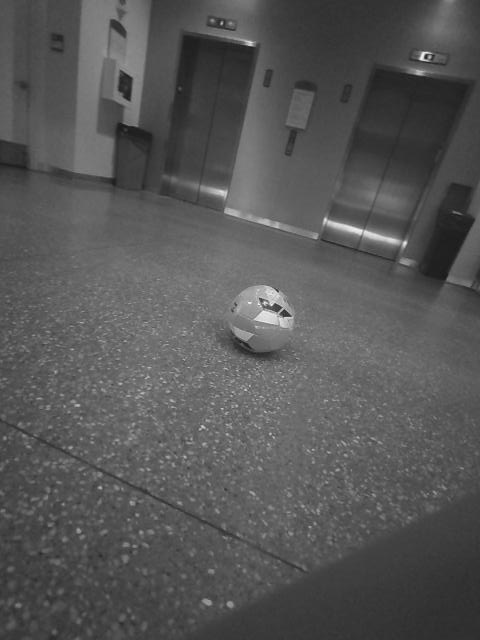ball: (5, 400, 126, 609)
